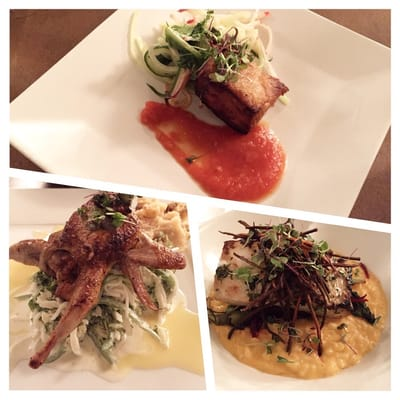sushi: (197, 209, 389, 386)
